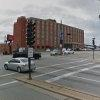Car: (3, 52, 36, 75)
